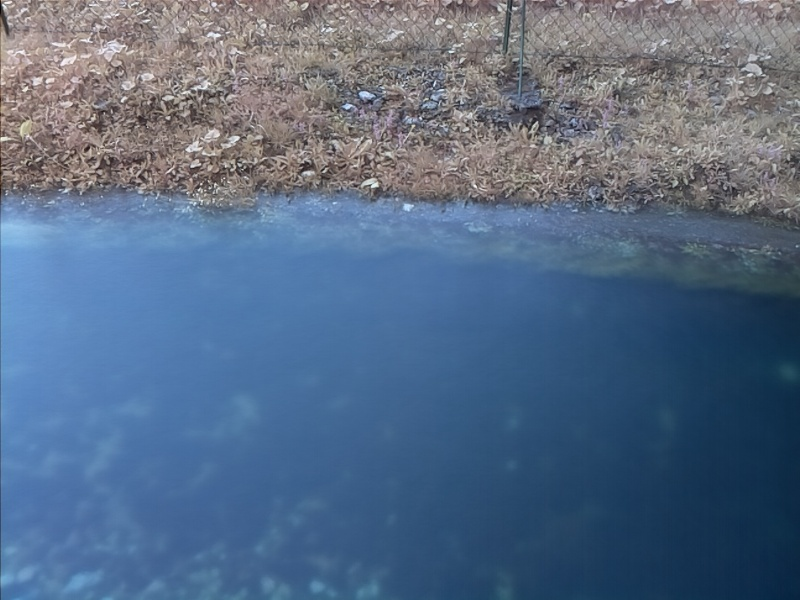Water: (1, 193, 798, 600)
